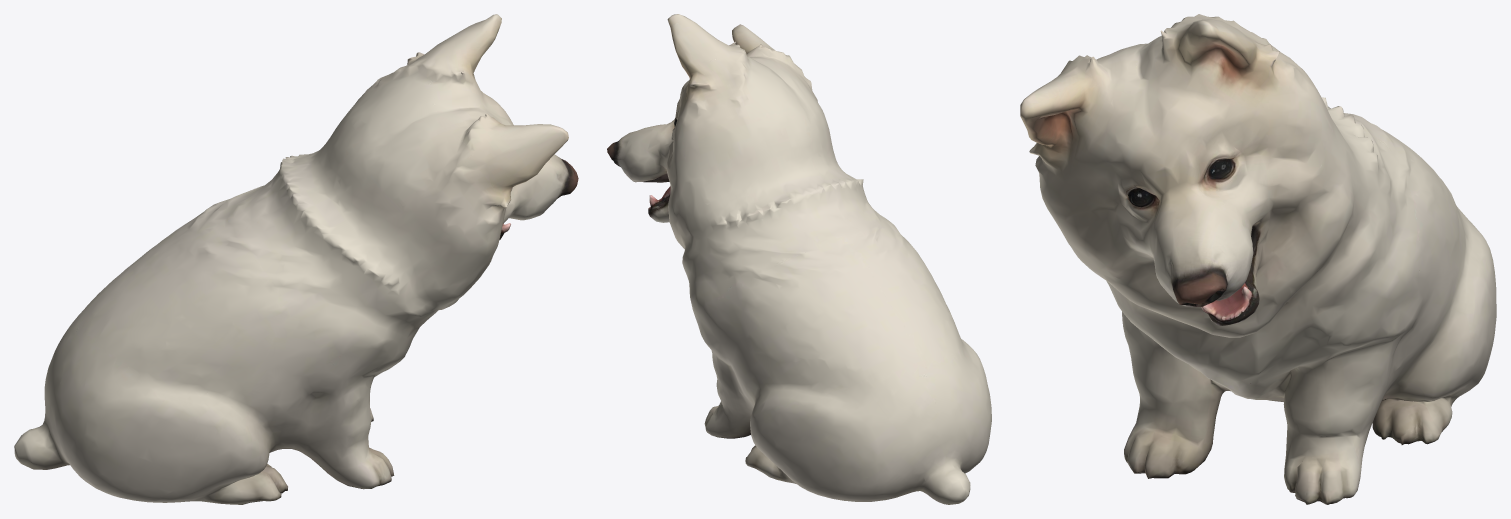
Rendered from supporter-001.glb.
The picture shows the model from 3 angles, left to right: view 1: azimuth 30°, elevation 25°; view 2: azimuth 150°, elevation 25°; view 3: azimuth 270°, elevation 25°; orthographic projection. The views are drawn at different scales.
Visible parts, largest first — view 1: tripo_node_4daa4ae8-9c52-40a9-8e36-3479a6bcaa5a; view 2: tripo_node_4daa4ae8-9c52-40a9-8e36-3479a6bcaa5a; view 3: tripo_node_4daa4ae8-9c52-40a9-8e36-3479a6bcaa5a.
Part boxes in pixels (box(x1,y1,x2,y2)): tripo_node_4daa4ae8-9c52-40a9-8e36-3479a6bcaa5a: box(14, 14, 578, 504); tripo_node_4daa4ae8-9c52-40a9-8e36-3479a6bcaa5a: box(607, 14, 991, 504); tripo_node_4daa4ae8-9c52-40a9-8e36-3479a6bcaa5a: box(1020, 14, 1496, 504).
Size of the model in its own units: 0.4233 by 0.35 by 0.2801.
1 material, 1 textured.
